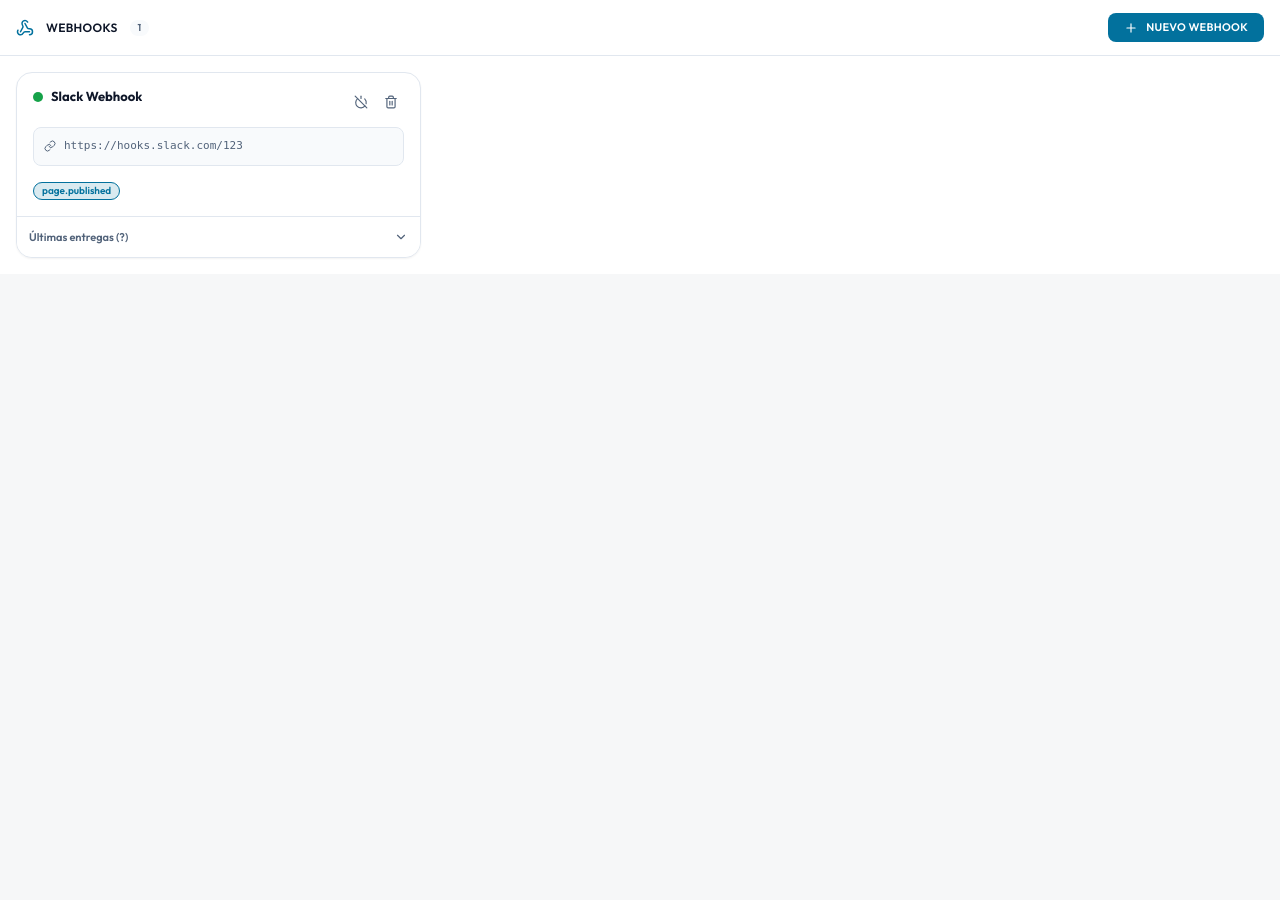
Adversarial Verification & Edge Cases (R1-R6) › R5: Webhooks Form, Deliveries & Delete Modal › opens delete confirmation side panel
Expected: the heading "Slack Webhook" is shown, [51, 89, 142, 105]
What coordinates should you click on to do the following:
click the button titled "Eliminar"
I would click on:
 (391, 102)
Its box is [378, 89, 404, 115].
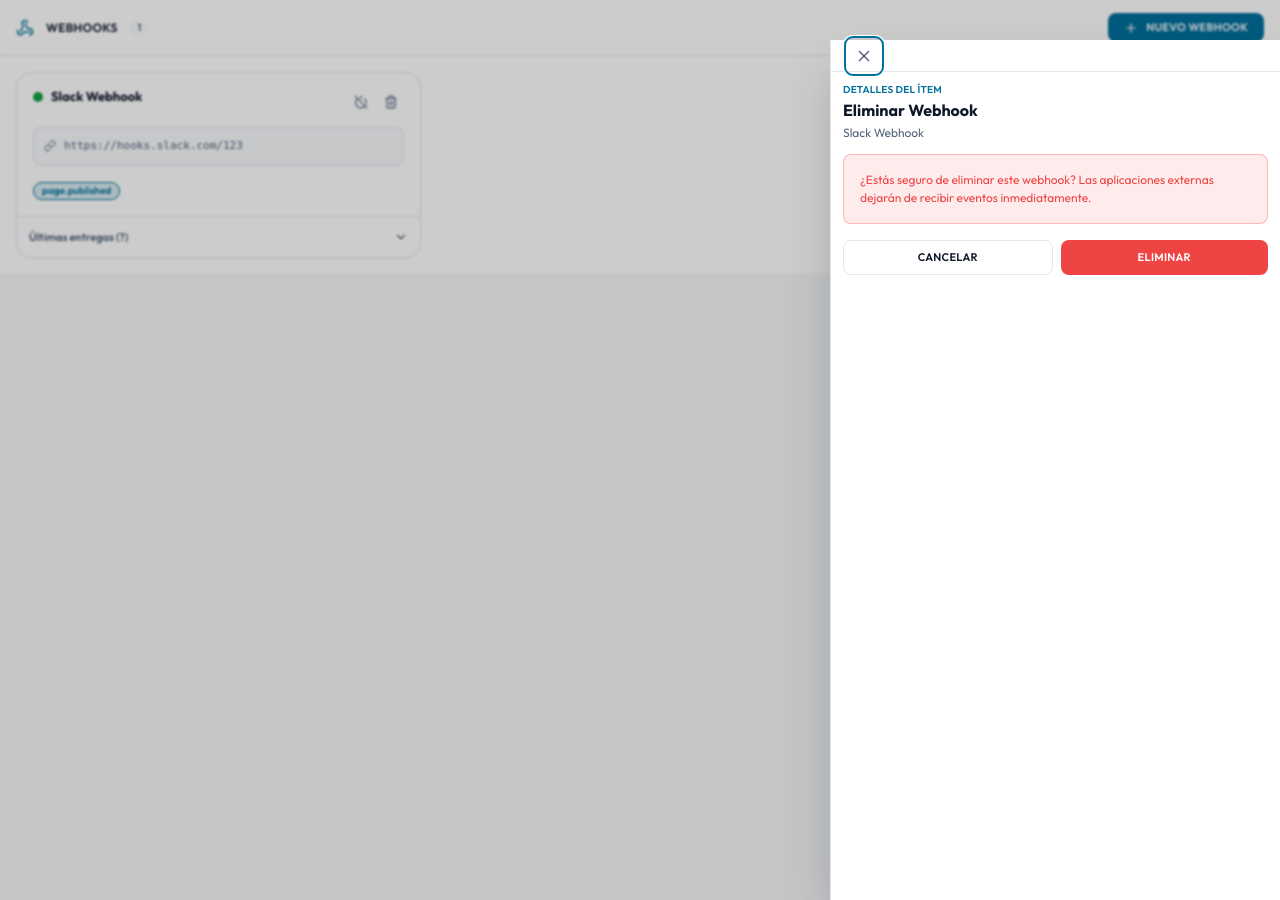
Now the heading "Eliminar Webhook" is shown, box [843, 100, 978, 120]
What coordinates should you click on to do the following:
click the button "Cancelar"
I would click on:
 (948, 257)
Its box is [843, 240, 1052, 274].
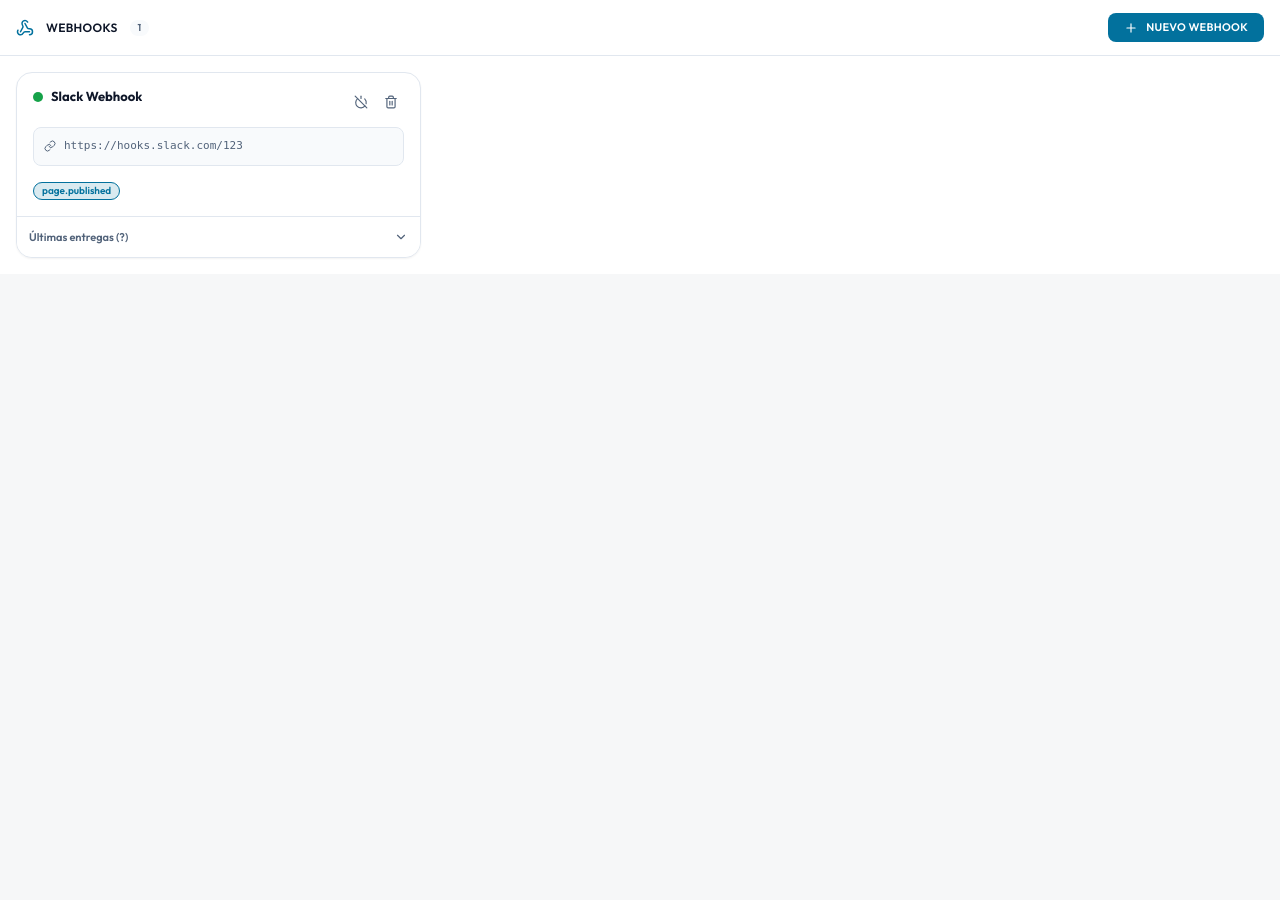
Now the heading "Eliminar Webhook" is gone
